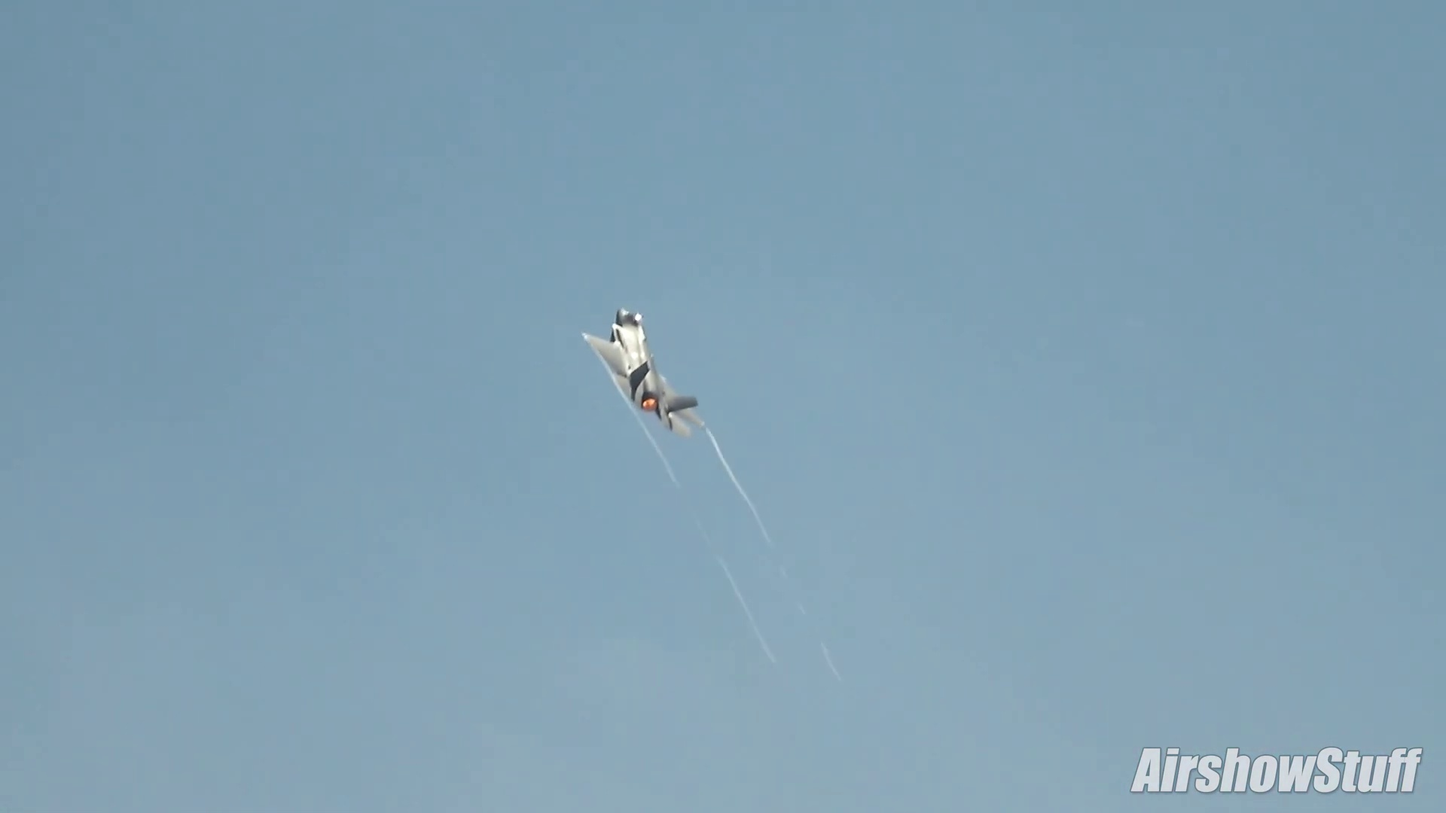F35: (570, 296, 710, 456)
